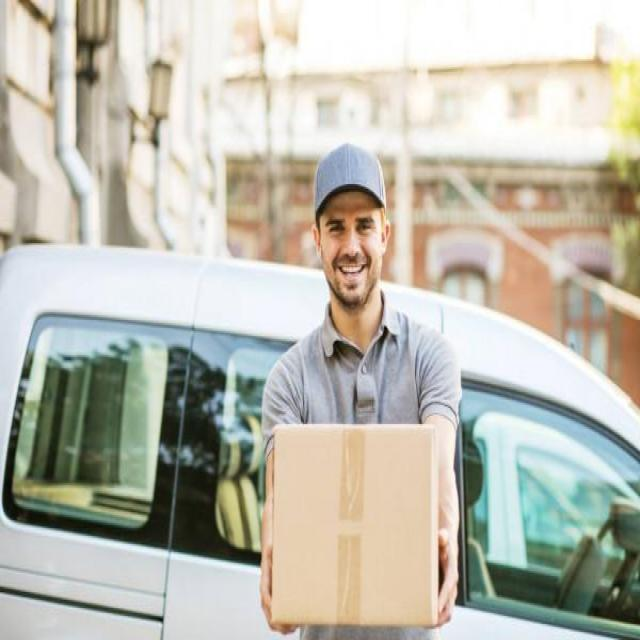box: (266, 406, 443, 630)
